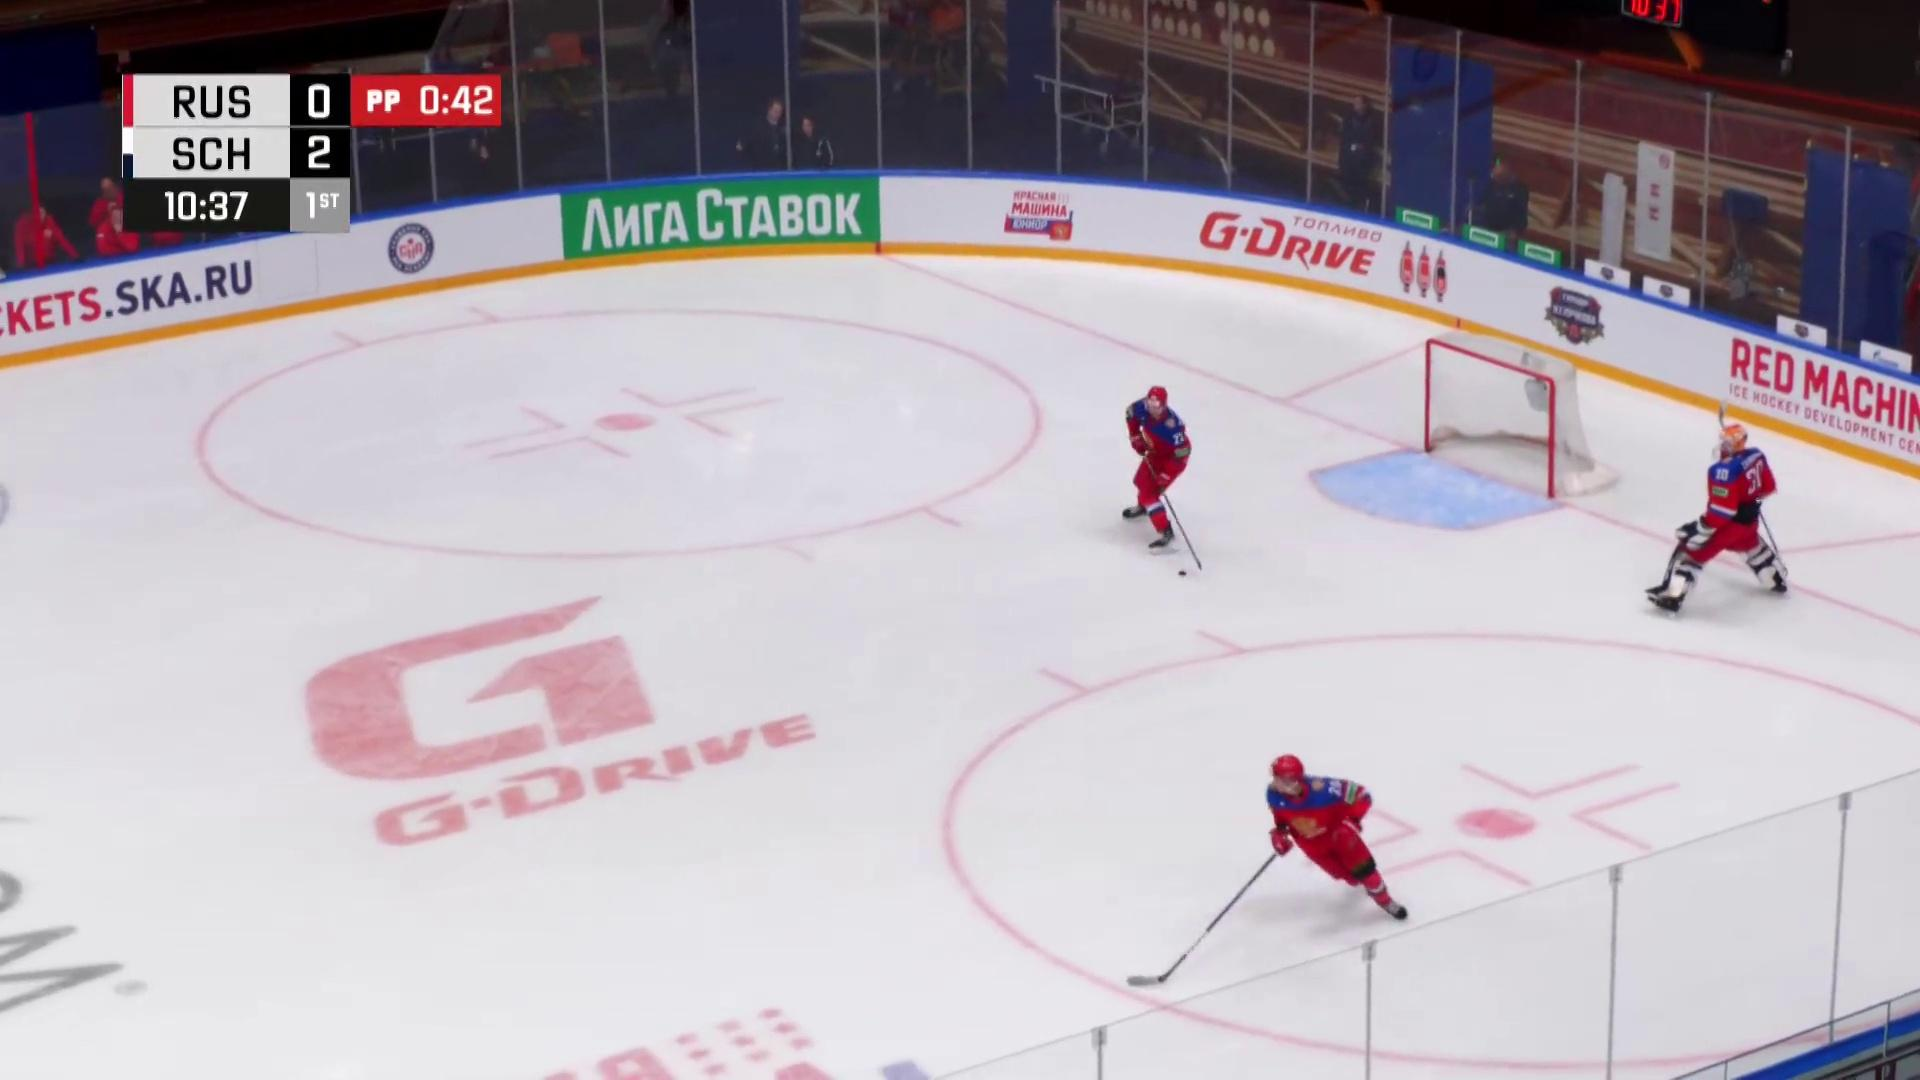ball: (1178, 571, 1187, 578)
